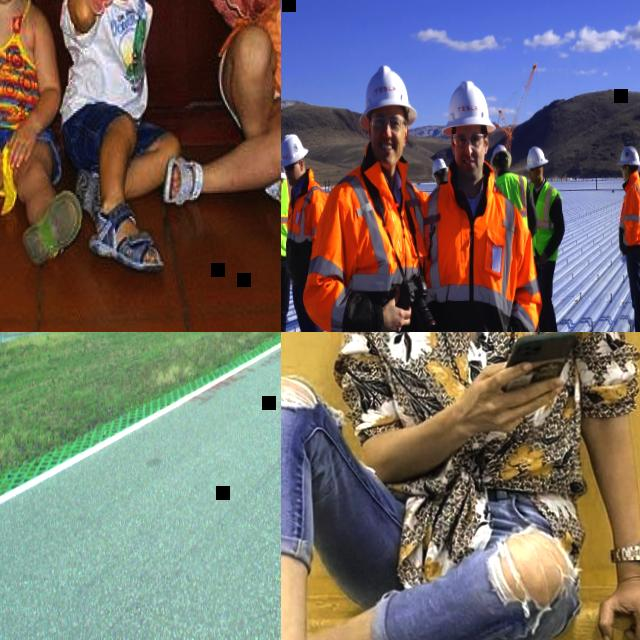Hardhat: (356, 63, 418, 129), (438, 78, 498, 135), (281, 130, 309, 168), (524, 145, 548, 171), (488, 142, 512, 166), (617, 143, 640, 168), (428, 157, 448, 179), (281, 147, 286, 178), (637, 156, 640, 181)
NO-Mask: (372, 137, 404, 168), (458, 148, 486, 179), (286, 171, 302, 188), (530, 172, 540, 184), (622, 168, 628, 179)
NO-Safety Vest: (370, 332, 590, 499), (67, 0, 149, 116), (0, 0, 38, 124), (261, 0, 281, 110)
Person: (281, 332, 640, 640), (292, 58, 443, 332), (56, 0, 183, 275), (416, 73, 549, 332), (152, 0, 281, 210), (0, 0, 81, 272), (281, 131, 340, 332), (486, 142, 547, 332), (523, 143, 569, 332), (614, 144, 640, 332), (281, 145, 299, 332), (426, 155, 448, 185)
Safety Vest: (294, 139, 434, 332), (419, 159, 545, 332), (282, 169, 332, 285), (528, 179, 561, 260), (493, 171, 534, 226), (616, 170, 640, 255), (281, 170, 292, 255)
